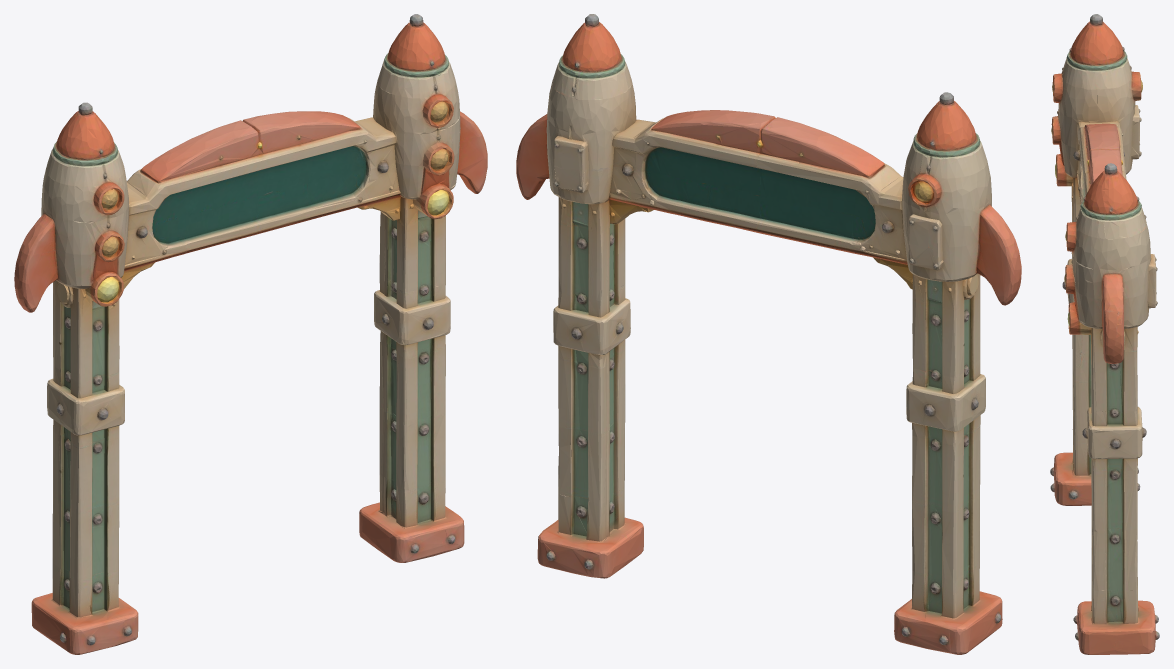
Rendered from 14-rocket-gantry.glb.
3 renders of one model, left to right at view 1: azimuth 30°, elevation 25°; view 2: azimuth 150°, elevation 25°; view 3: azimuth 270°, elevation 25°, orthographic. The views are drawn at different scales.
Bounding box in the file's own units: 0.9455 × 0.9991 × 0.2084.
1 material, 1 textured.
